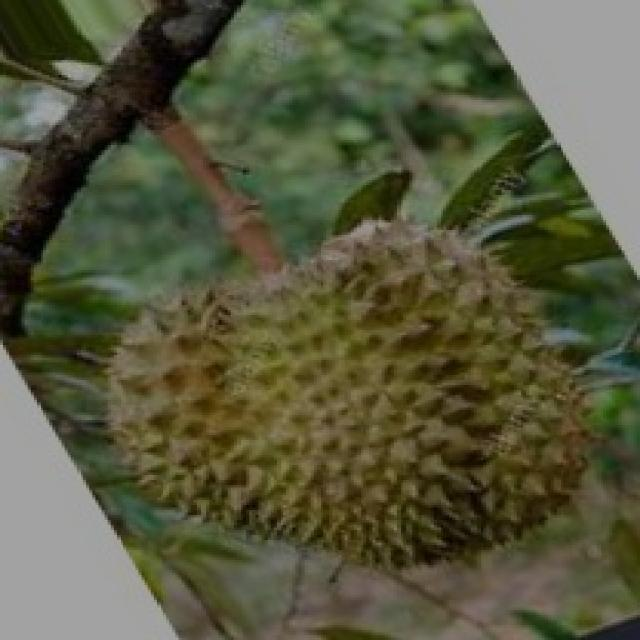fruit: (249, 165, 640, 627), (31, 205, 382, 603)
